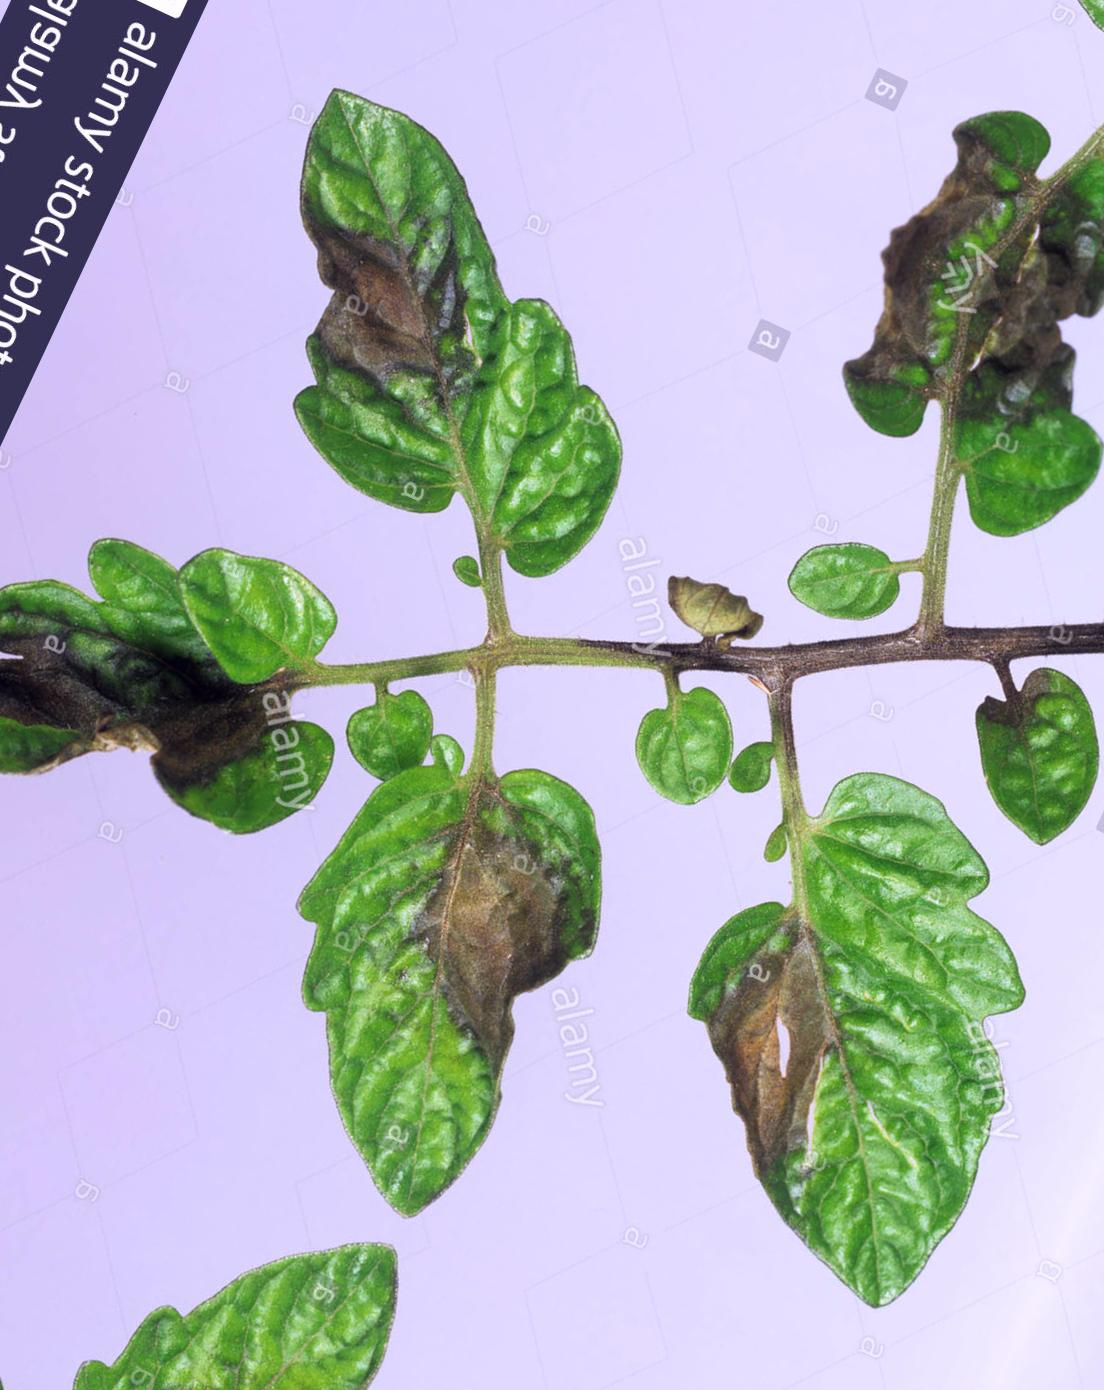Tomato leaf late blight: (141, 55, 747, 630), (581, 723, 1104, 1355), (162, 674, 662, 1248), (0, 431, 424, 967)
